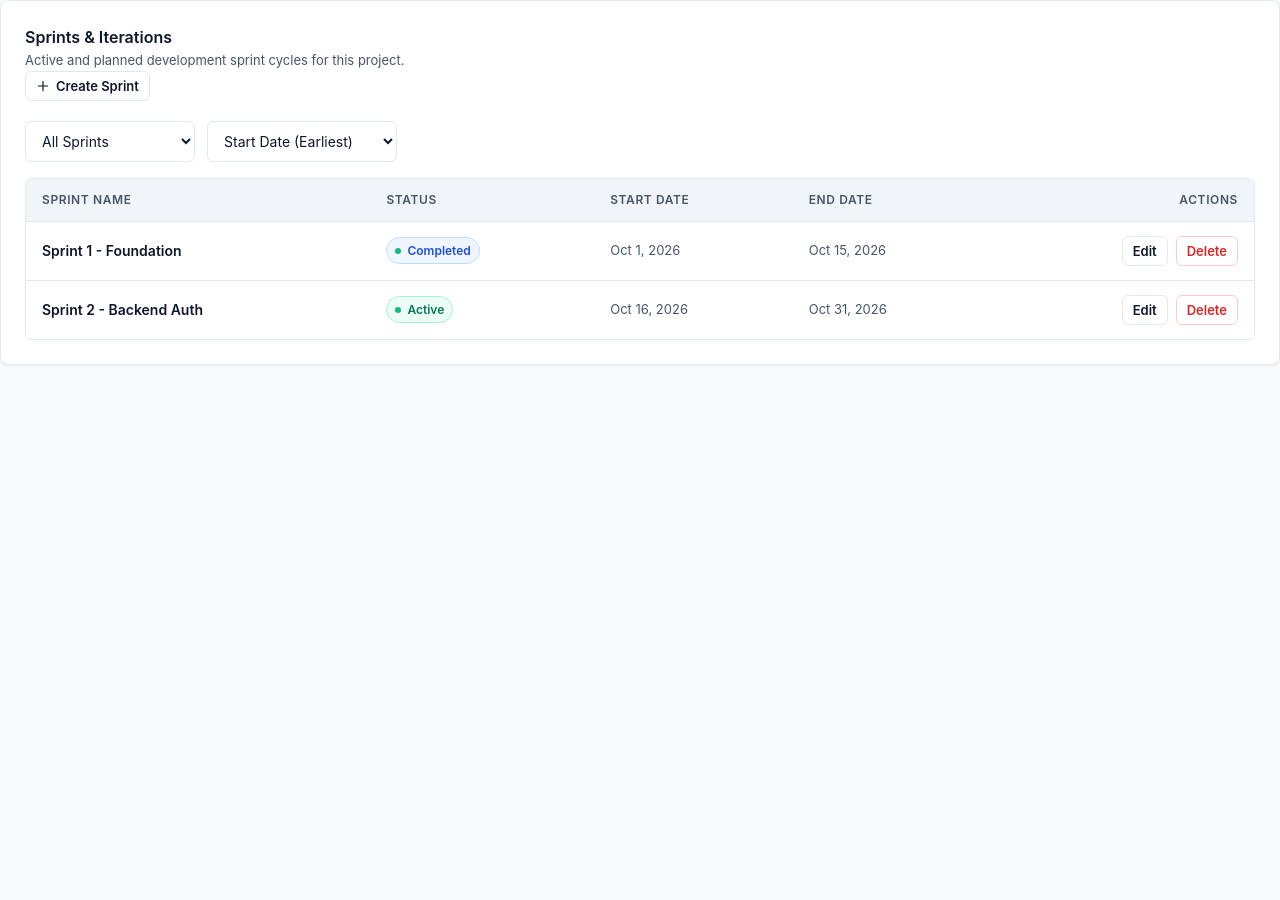
Scenario: SprintList Component › opens edit modal, updates a sprint, and refreshes the list
The image size is (1280, 900).
Expected: the text "Sprint 1 - Foundation" is shown, [26, 221, 370, 280]
Click the button with aria-label "Edit Sprint 1 - Foundation" at point(1145, 250), box [1122, 236, 1168, 266]
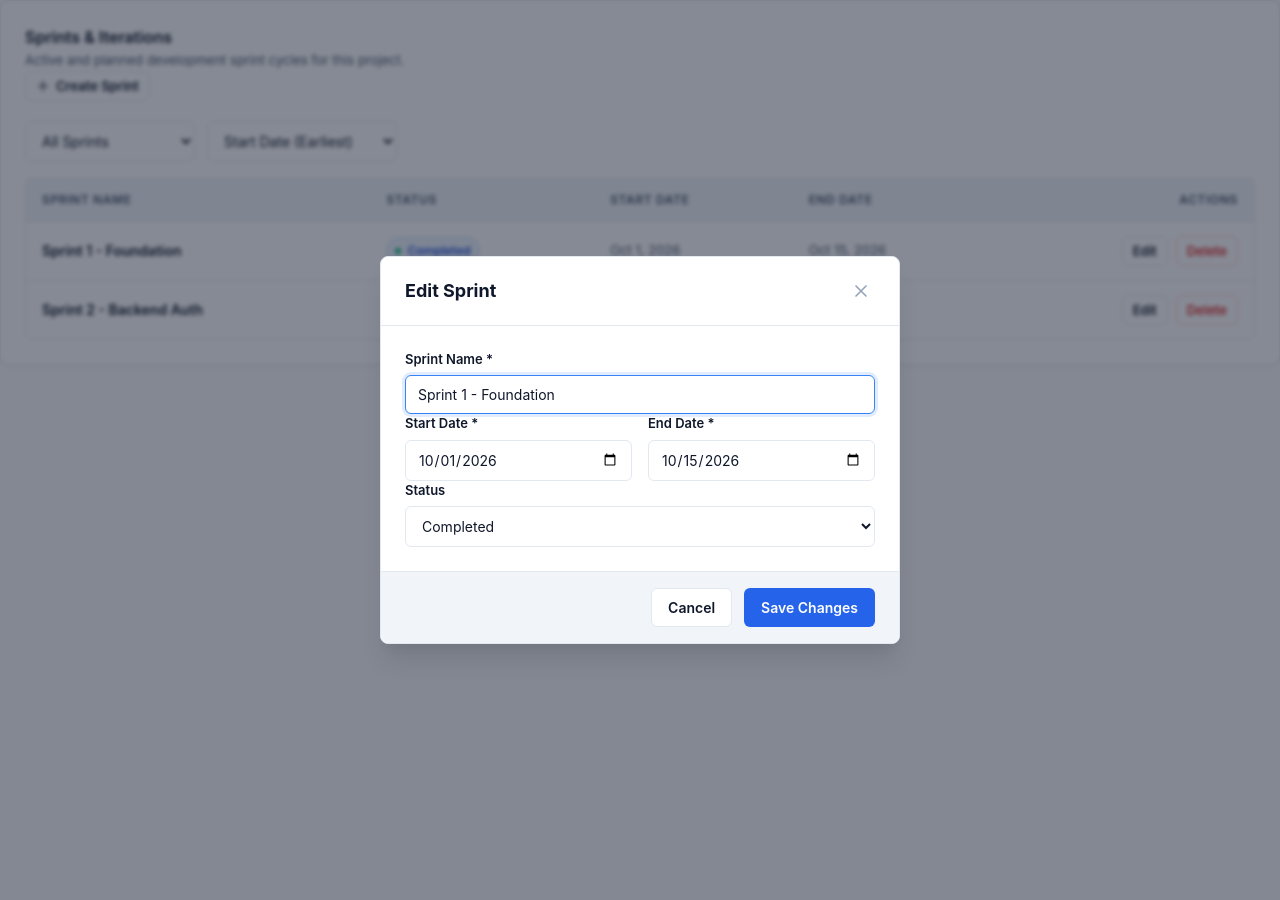
Expected: the heading "Edit Sprint" is shown, [405, 277, 496, 304]
Replace the text in the field labelled "Sprint Name *" with "Sprint 1 - Foundation Updated" at point(640, 395), box [405, 375, 875, 414]
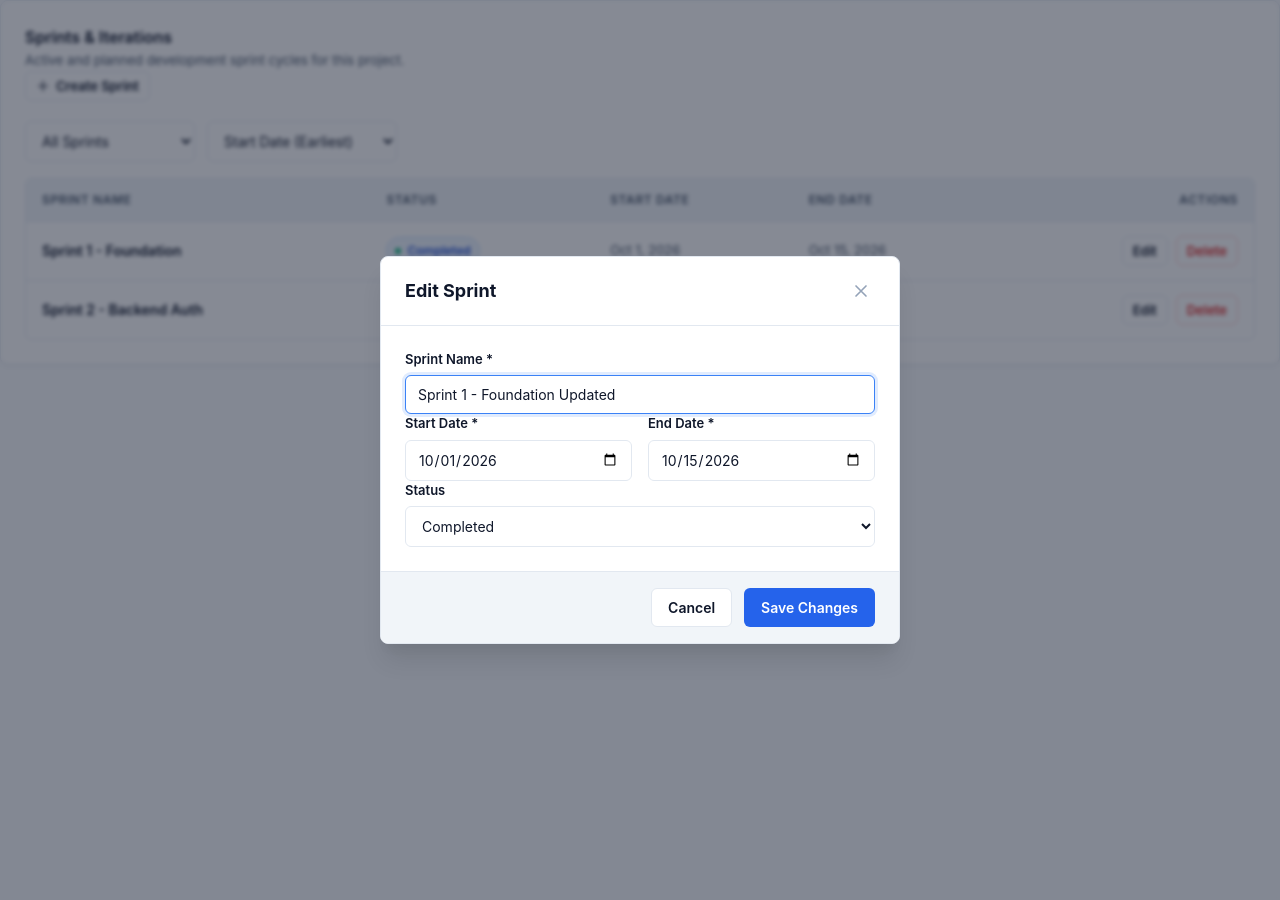
Click the button "Save Changes" at point(810, 608), box [744, 588, 875, 627]
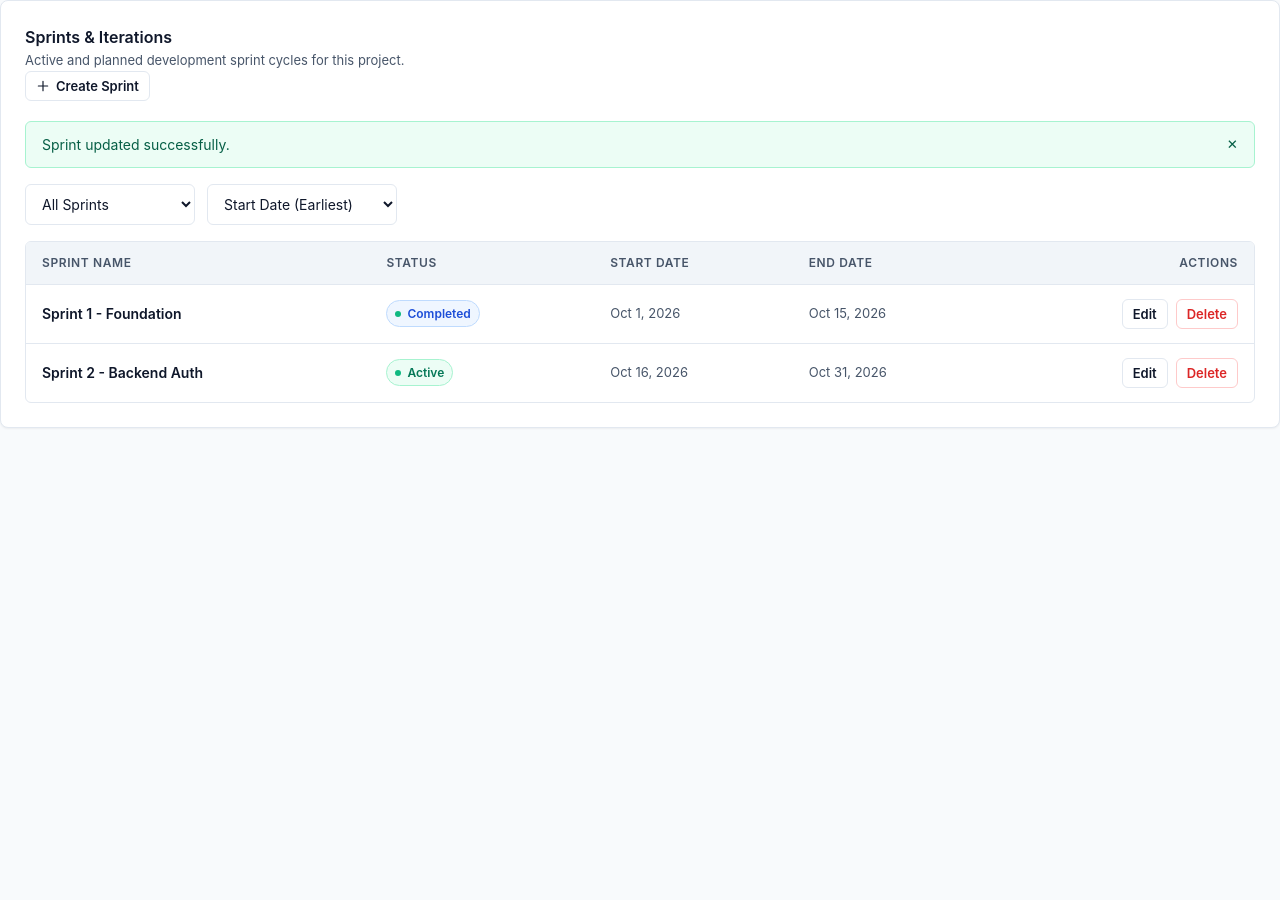
Expected: the text "Sprint updated successfully." is shown, [42, 134, 230, 154]
